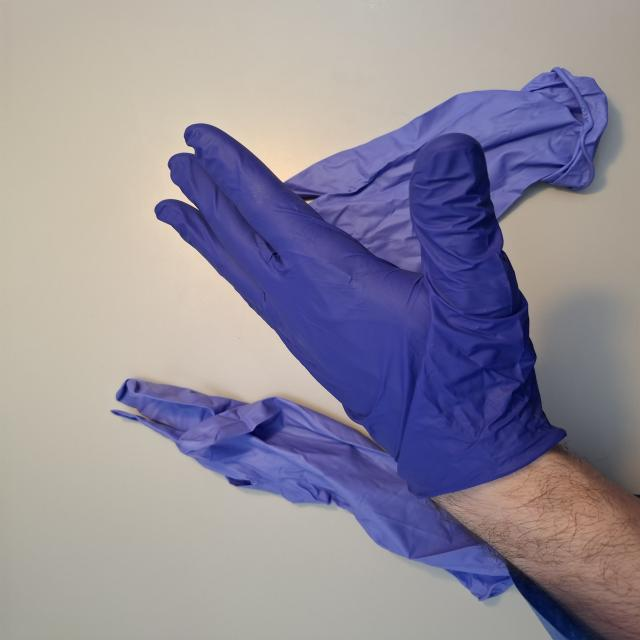glove_on: (151, 121, 582, 511)
